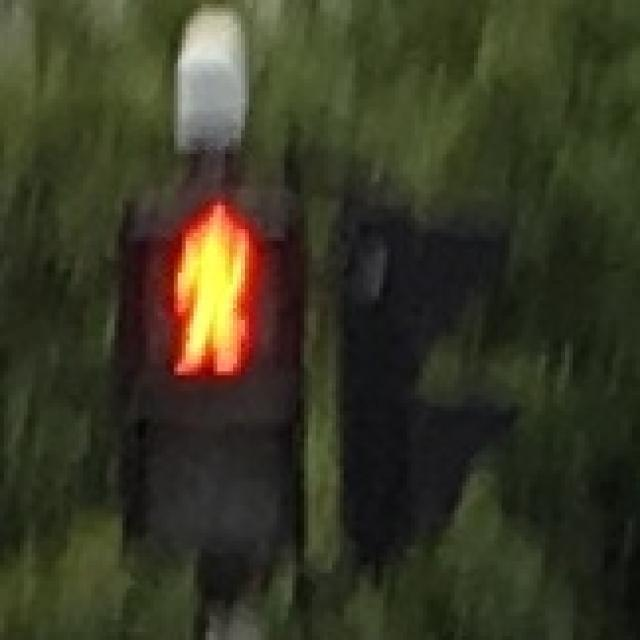red-crossing: (147, 200, 270, 380)
